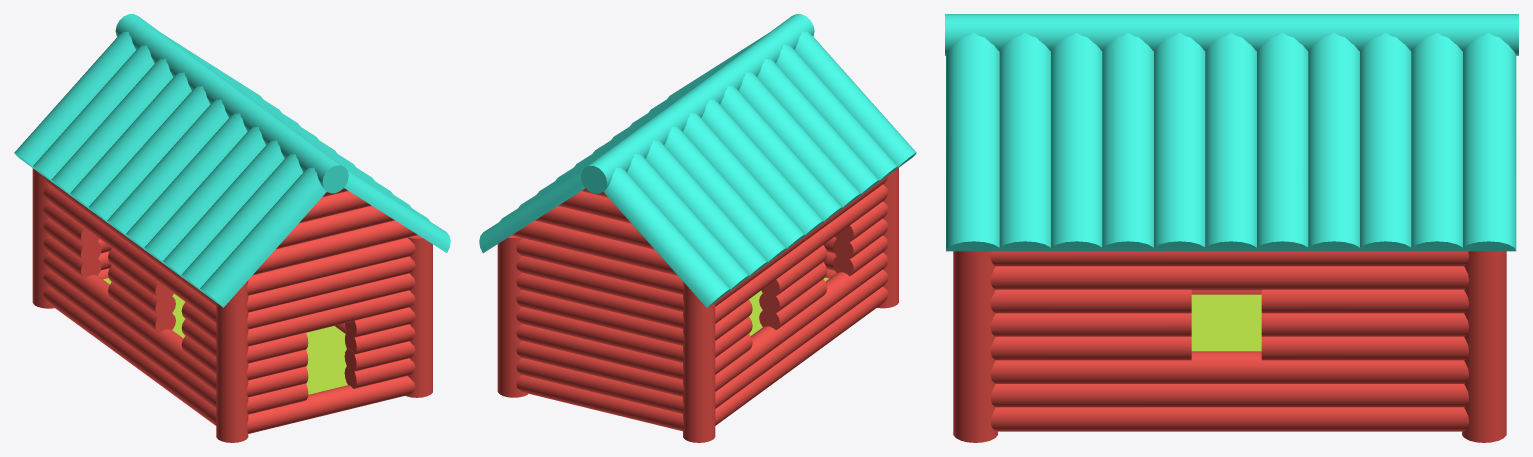
Rendered from house2.fbx.
The picture shows the model from 3 angles, left to right: view 1: azimuth 30°, elevation 25°; view 2: azimuth 150°, elevation 25°; view 3: azimuth 270°, elevation 25°; orthographic projection. The views are drawn at different scales.
Parts seen in each view (by area): view 1: wall, LEAp, box; view 2: wall, LEAp; view 3: LEAp, wall, box.
Boxes of the visible parts, bbox=[...] form: wall: bbox=[32, 168, 432, 442]; LEAp: bbox=[14, 14, 450, 307]; box: bbox=[103, 278, 347, 394]; wall: bbox=[497, 168, 898, 442]; LEAp: bbox=[479, 14, 916, 307]; LEAp: bbox=[945, 14, 1518, 251]; wall: bbox=[953, 251, 1506, 442]; box: bbox=[1191, 294, 1261, 351].
Bounding box in the file's own units: 64.55 × 65.16 × 95.48.
